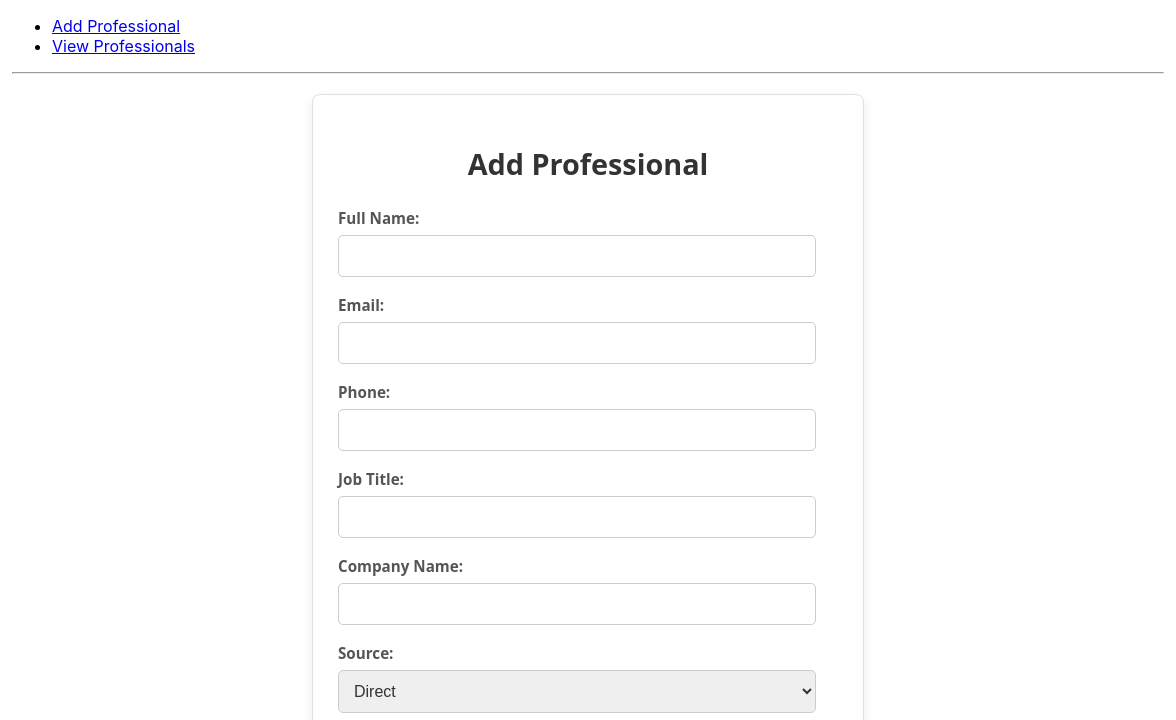
Test: navigates to the professional list and renders it
# Click on the "View Professionals" link
Click the link "View Professionals" at (124, 46), box [52, 36, 195, 56]
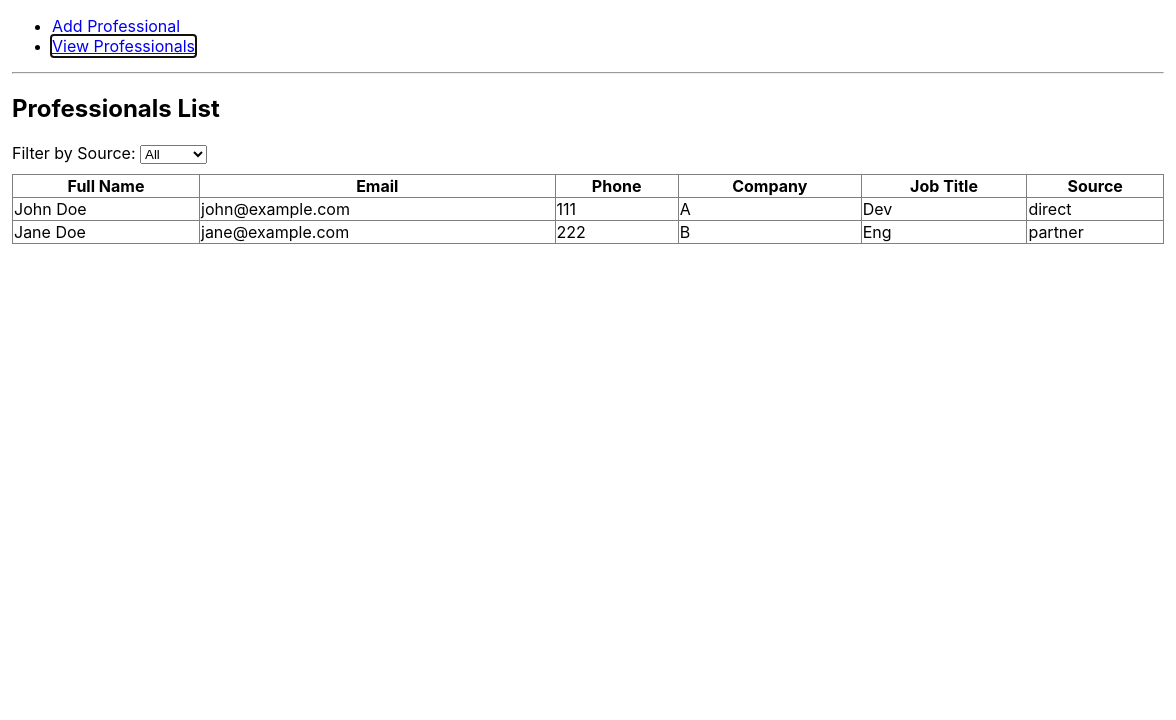
Now the text "John Doe" is shown, box [12, 197, 200, 220]
Now the text "Jane Doe" is shown, box [12, 220, 200, 243]
